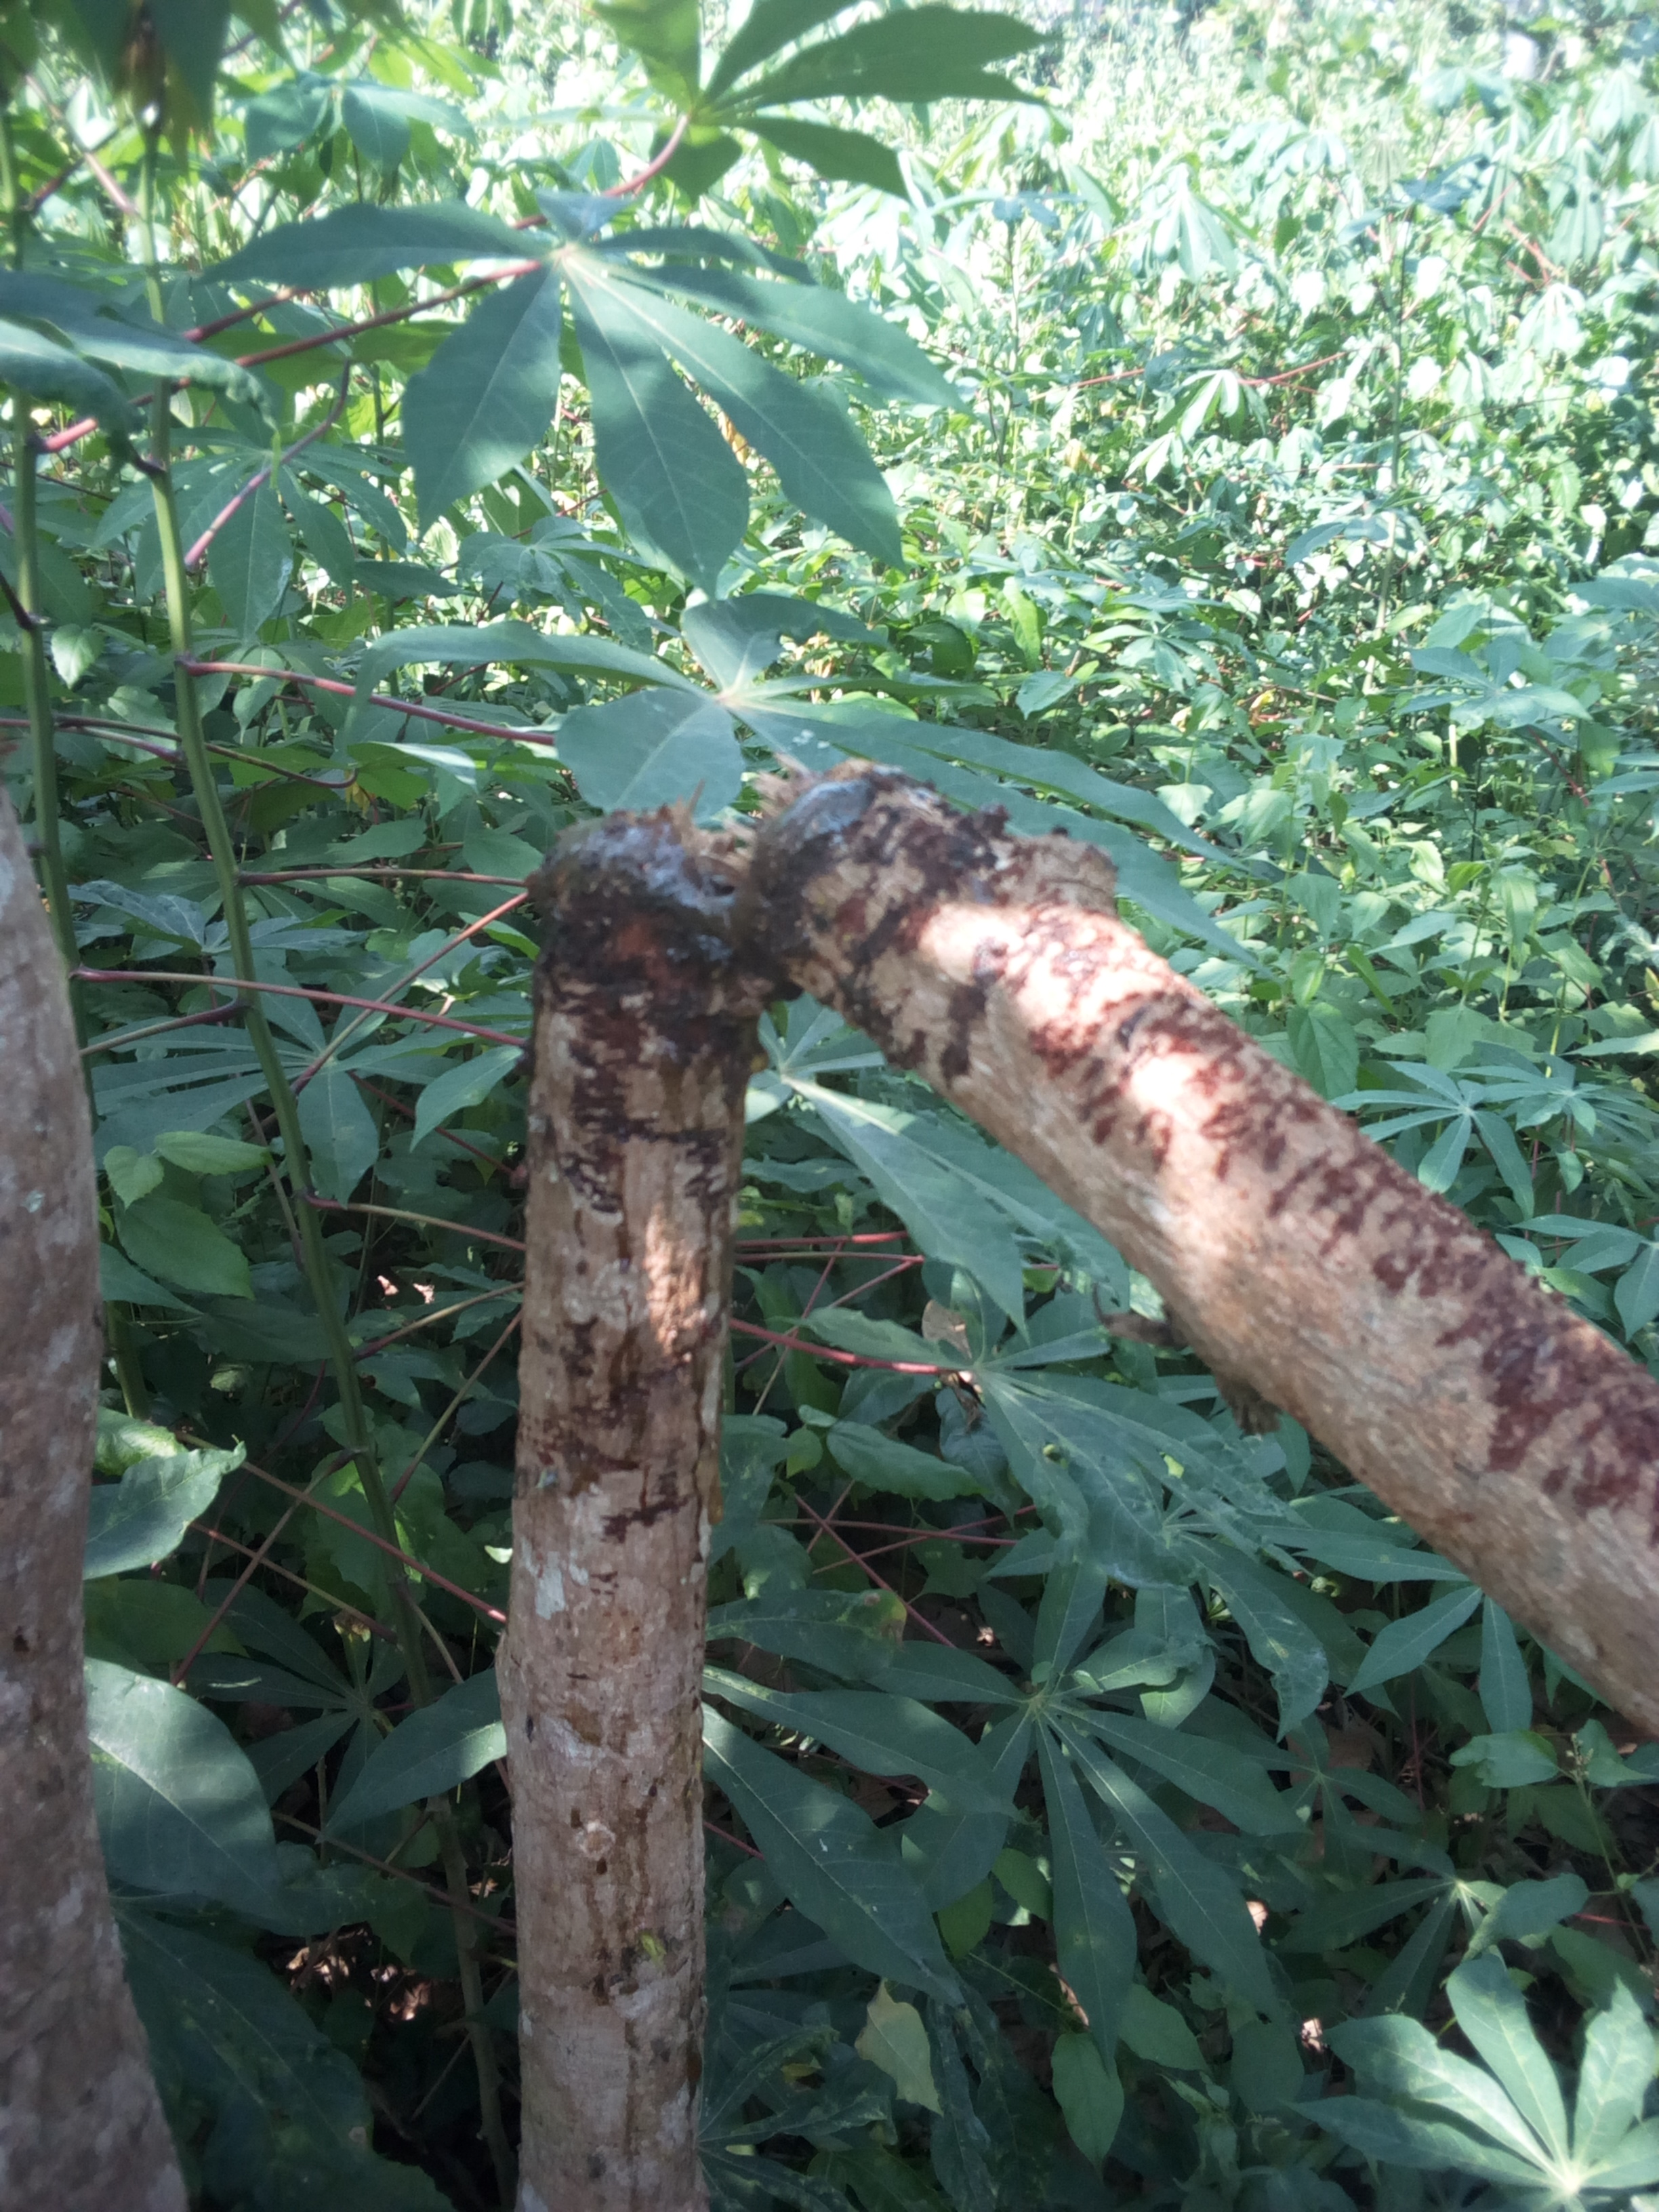Analepse trifasciata: (481, 712, 1023, 1031)
